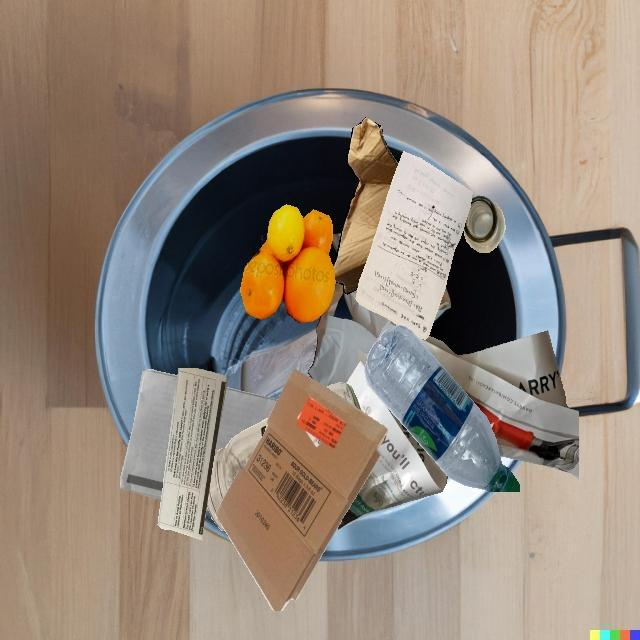biowaste: (240, 204, 335, 322)
cardboard: (215, 368, 388, 611), (333, 117, 399, 294)
glass: (207, 417, 268, 531), (463, 196, 505, 253)
paper: (418, 330, 579, 481), (356, 151, 472, 339), (337, 361, 447, 530), (158, 368, 228, 540), (321, 233, 440, 315), (161, 417, 268, 506), (120, 369, 177, 499), (308, 315, 391, 387), (214, 387, 278, 453), (328, 233, 341, 266), (440, 286, 451, 309)
plastic: (364, 325, 520, 492)
